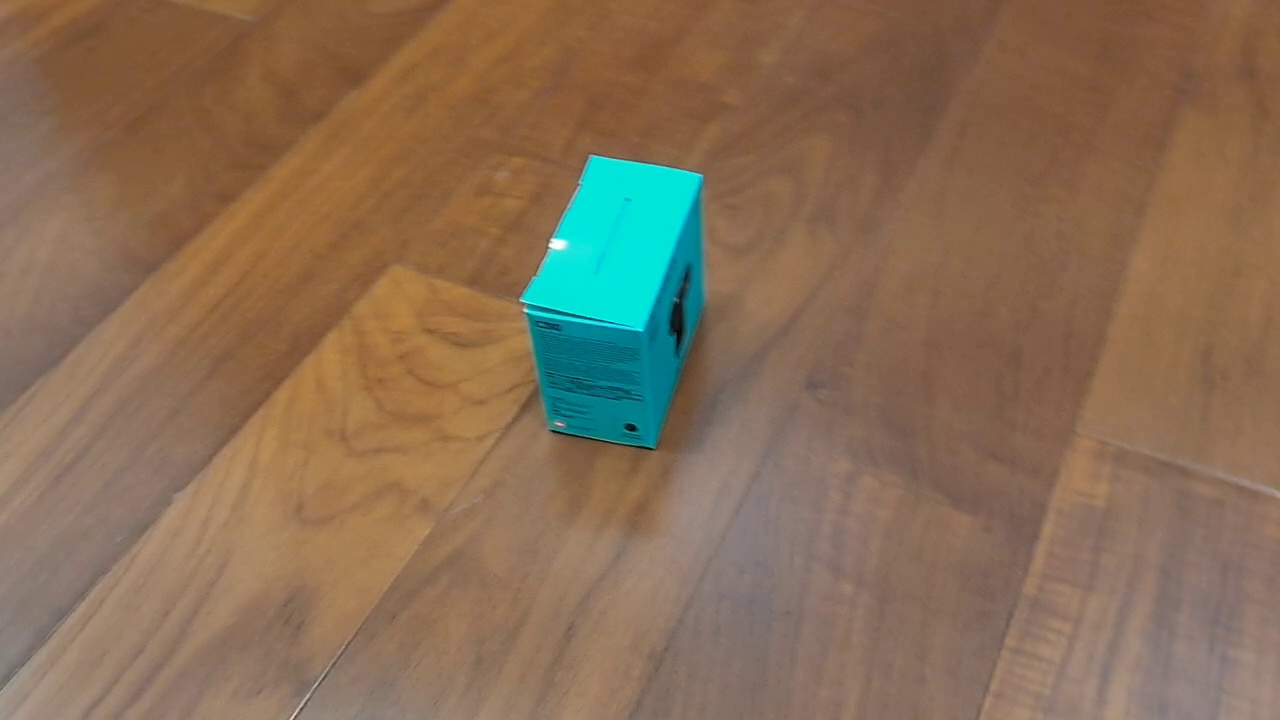webcam: (517, 152, 709, 453)
